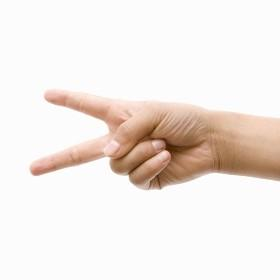tyoki: (29, 87, 202, 192)
